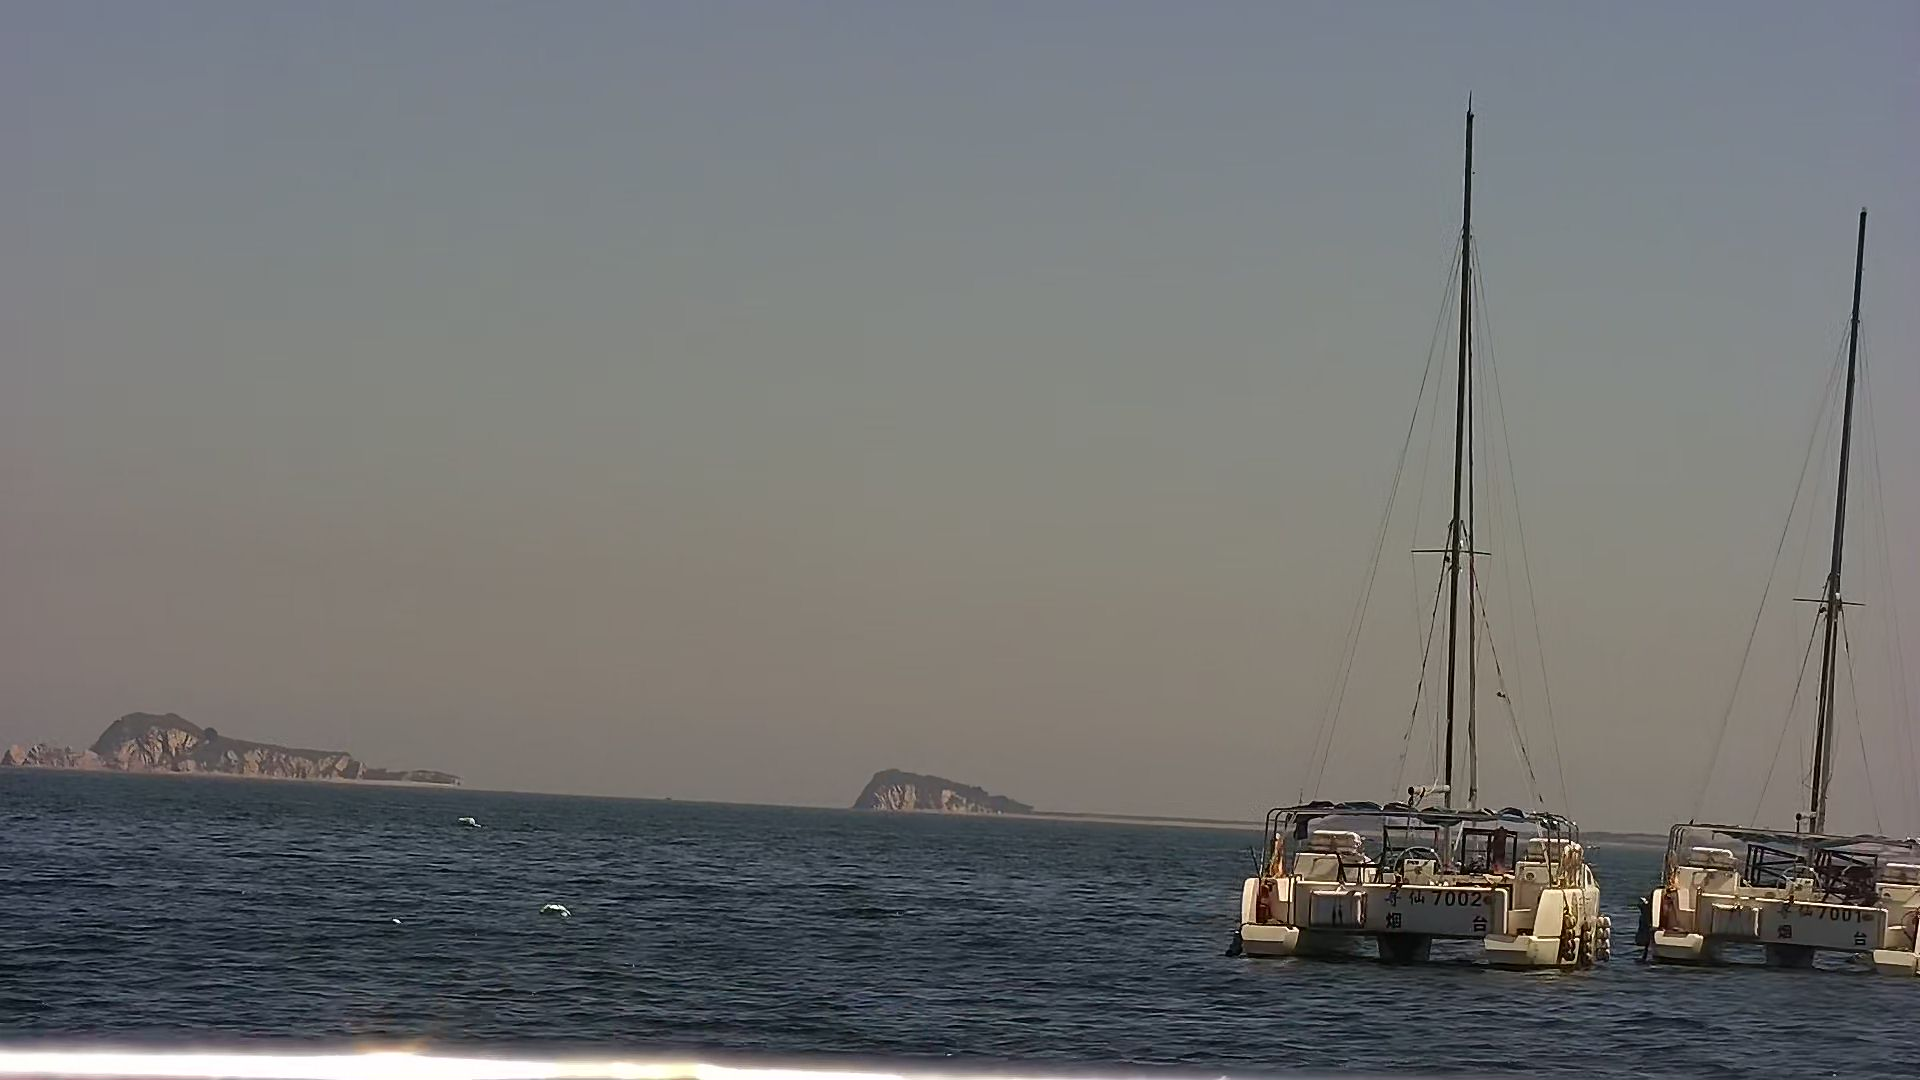boat: (1238, 117, 1610, 971), (1640, 208, 1920, 965)
rock: (4, 715, 460, 789), (843, 771, 1038, 818), (535, 902, 574, 922)
